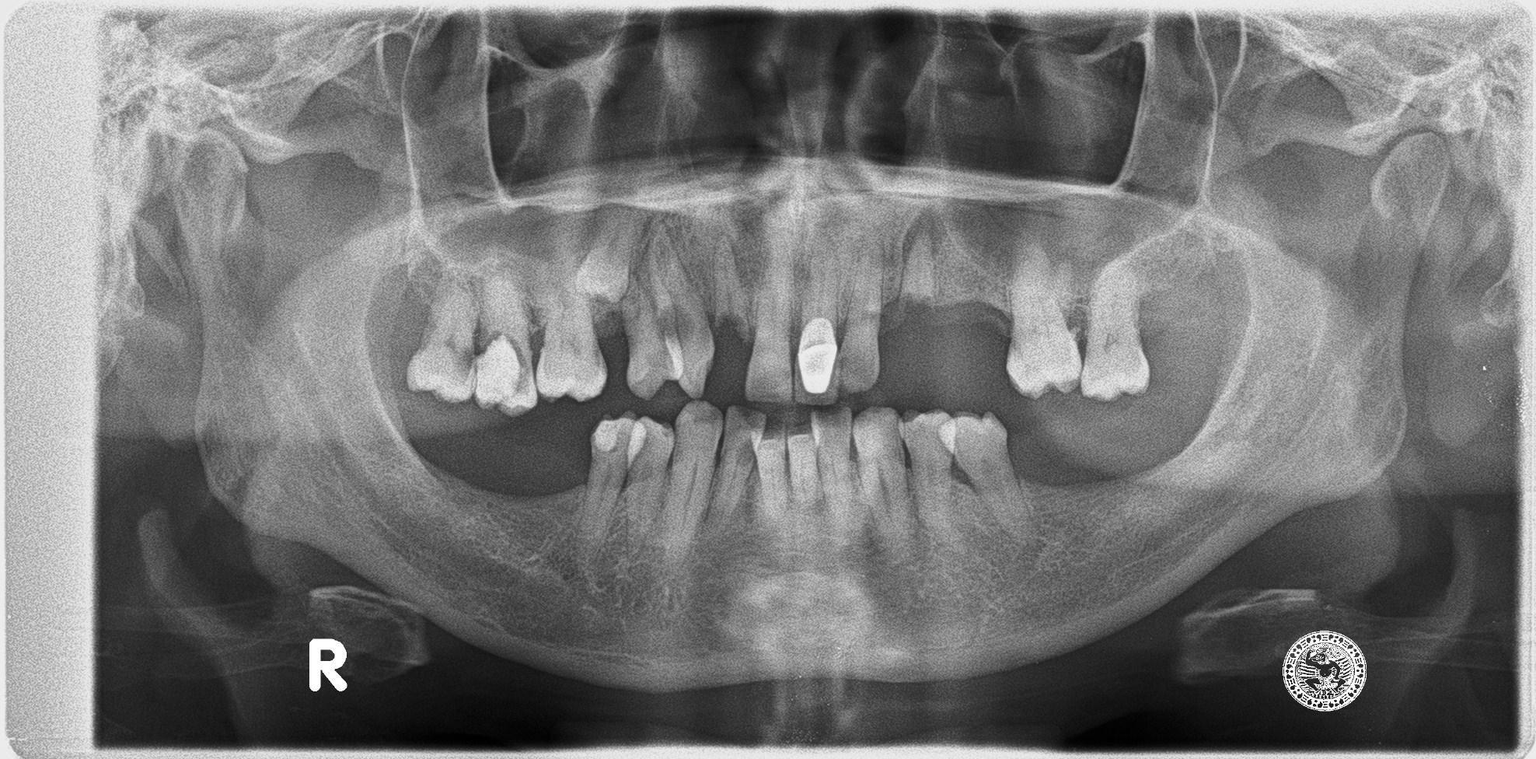Individual Tooth: (646, 223, 714, 397), (938, 412, 1032, 537), (1007, 247, 1080, 398), (1080, 250, 1150, 400), (660, 401, 723, 565), (407, 266, 480, 402), (853, 407, 917, 562), (475, 271, 537, 414), (581, 418, 641, 565), (624, 253, 685, 397), (536, 275, 605, 400), (839, 226, 890, 395), (705, 404, 769, 537), (796, 238, 841, 404), (623, 417, 675, 554), (574, 208, 648, 302), (746, 248, 791, 402), (900, 411, 955, 530), (810, 413, 853, 524), (750, 427, 789, 520), (714, 236, 749, 337), (788, 430, 819, 512), (901, 233, 937, 300)
